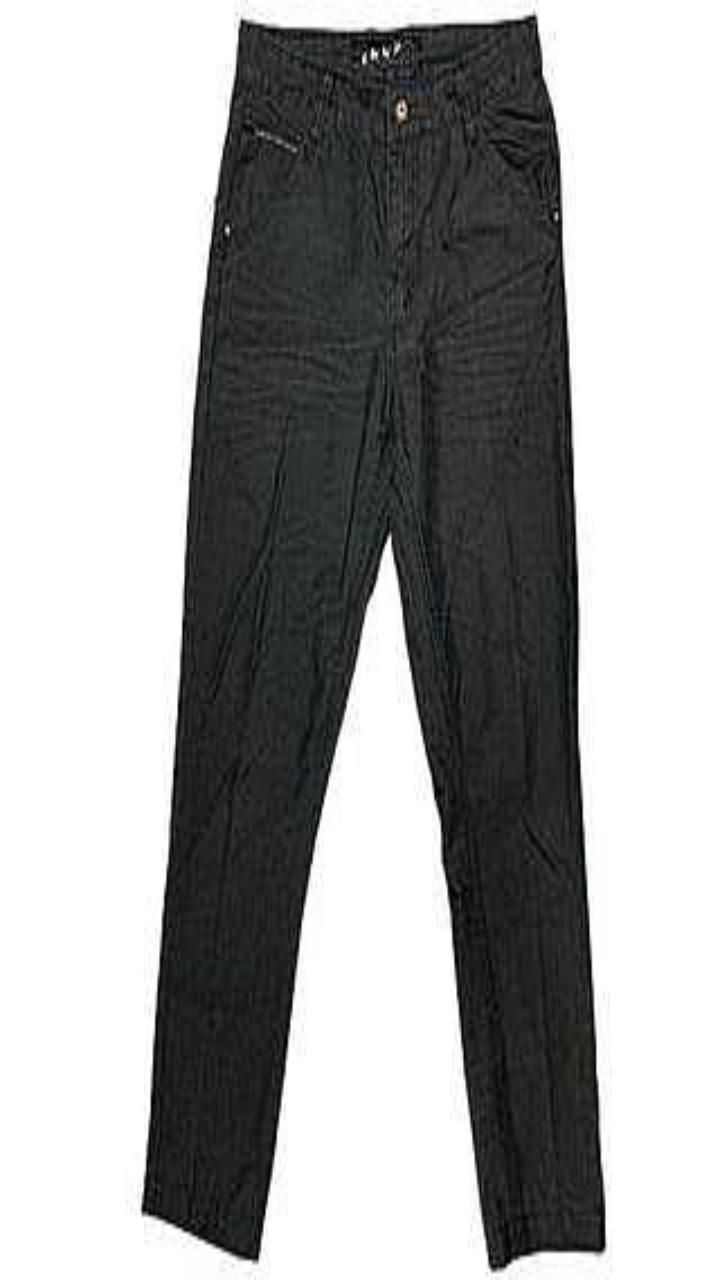Jeans: (144, 19, 603, 1266)
